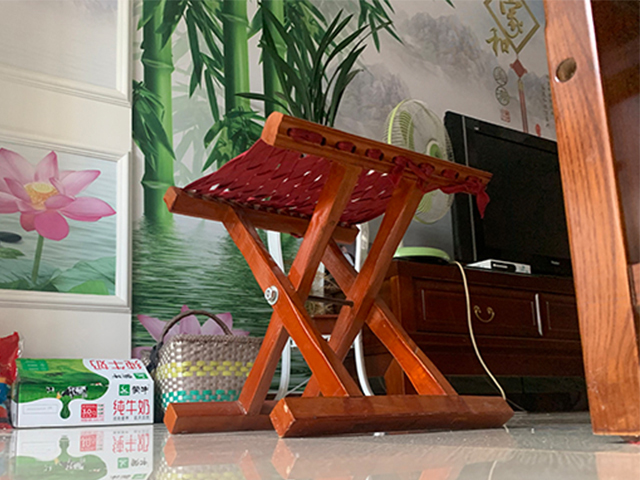cabinet: (345, 254, 586, 401)
stool: (161, 110, 516, 438)
wire: (457, 263, 509, 403)
